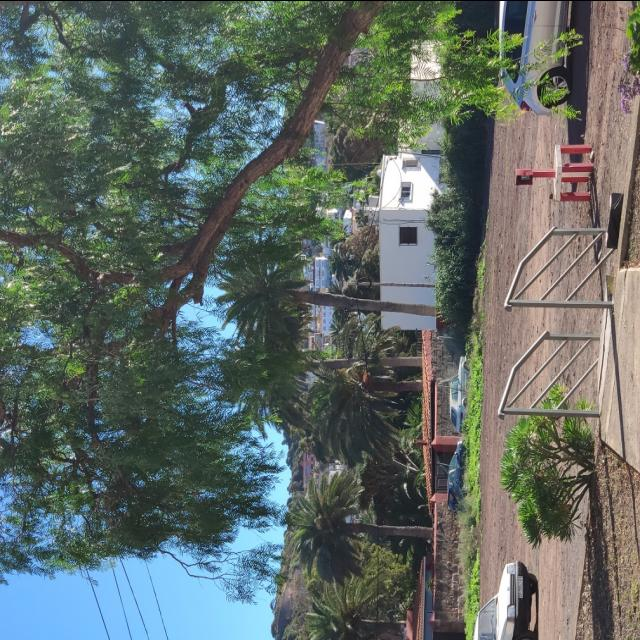Palm-Trees: (210, 238, 434, 344), (288, 476, 434, 584)
